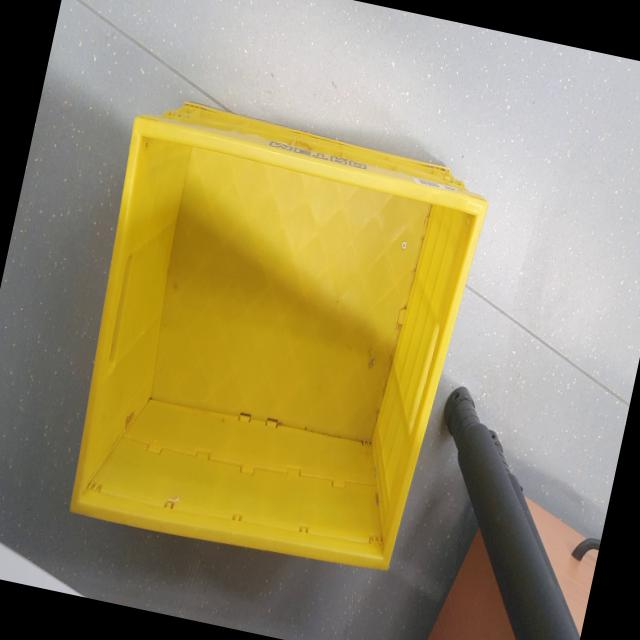box: (44, 59, 506, 604)
